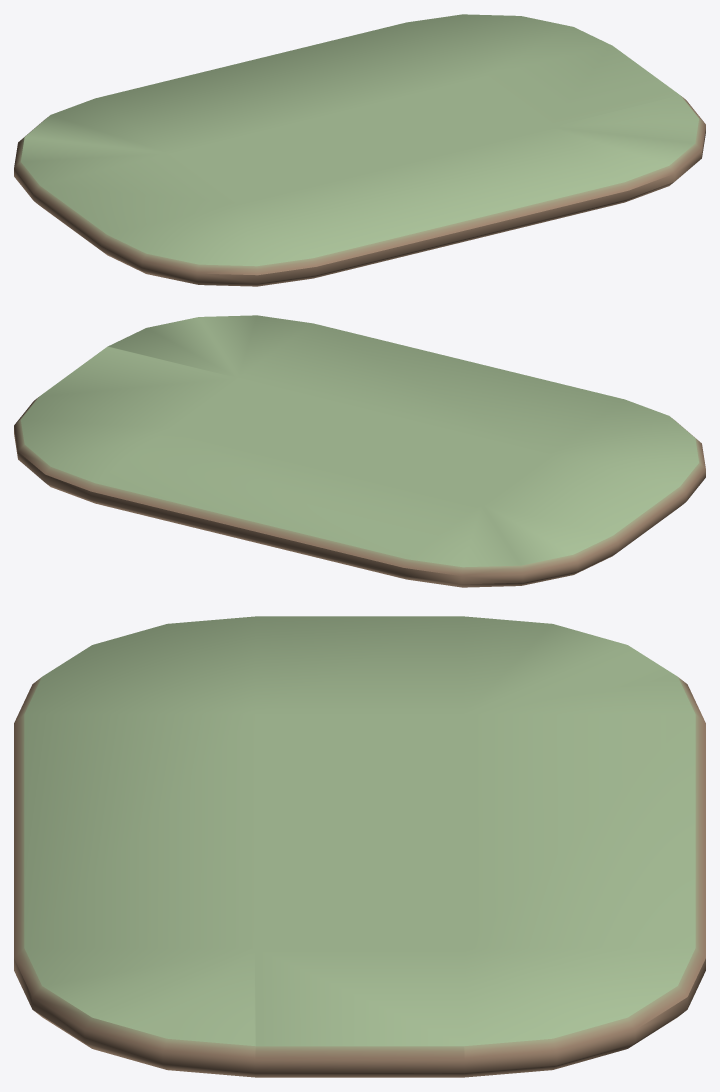
The model's file is kit_rug.glb.
3 views of the same model, one above another, from view 1: azimuth 30°, elevation 25°; view 2: azimuth 150°, elevation 25°; view 3: azimuth 270°, elevation 25° (orthographic). The views are drawn at different scales.
Visible parts, largest first — view 1: rug_oval_A; view 2: rug_oval_A; view 3: rug_oval_A.
Boxes of the visible parts, x1,y1,x2,y2 form: rug_oval_A: (14,14,705,286); rug_oval_A: (14,315,705,587); rug_oval_A: (14,616,705,1077).
Bounding box in the file's own units: 1.5 × 0.0501 × 1.
Materials: 1 (1 with a texture image).
